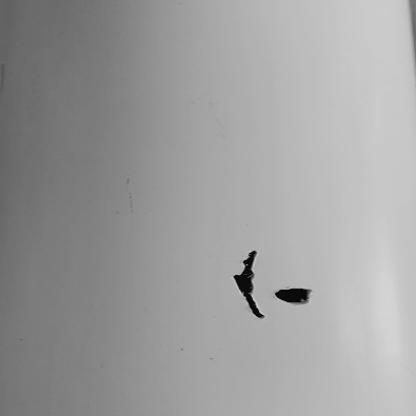kongdong: (232, 249, 267, 319), (276, 288, 311, 305)
